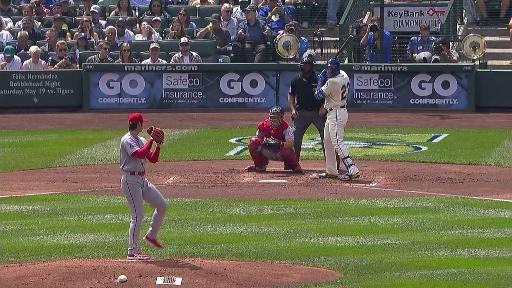pitcher: (120, 113, 169, 261)
